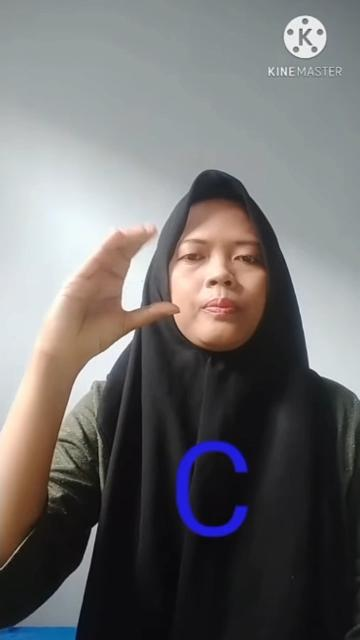C: (36, 222, 182, 382)
